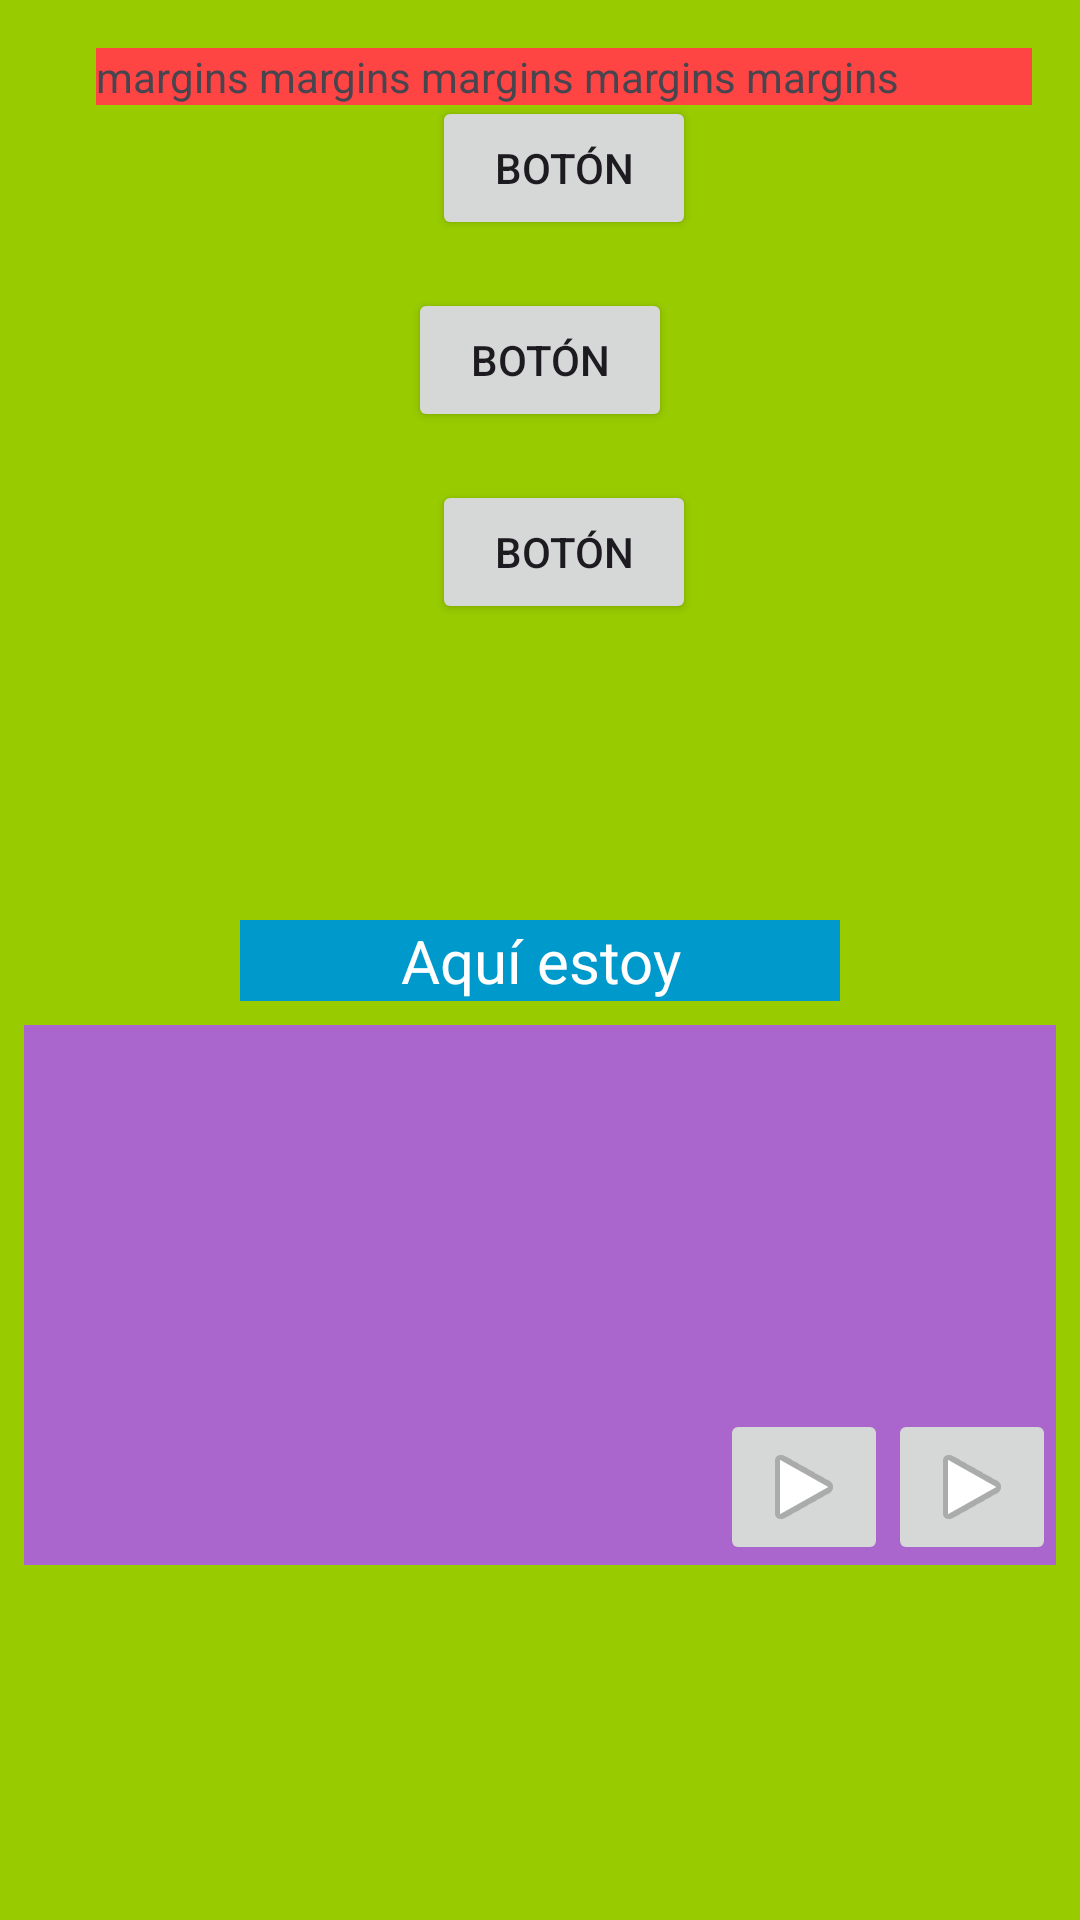

Screen size 1080w x 1920h. Icon name, then its center in pixels as [x,y]:
play: [804,1487], [972,1487]
